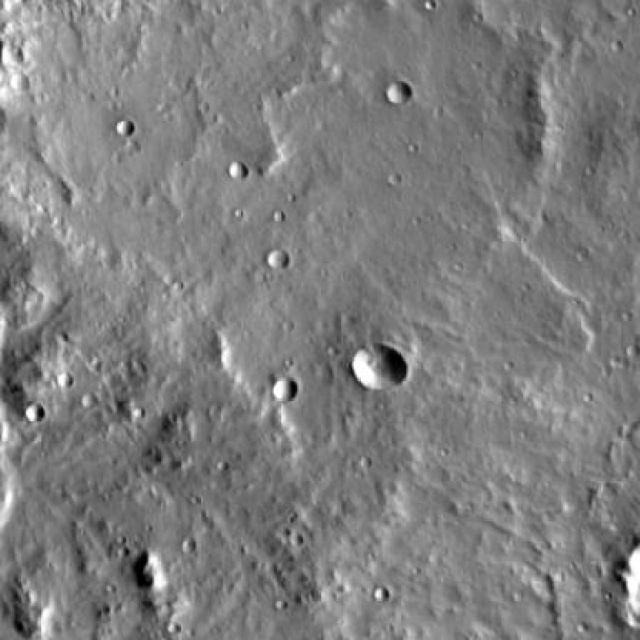crater: (347, 347, 402, 399), (267, 384, 293, 408), (381, 88, 402, 108), (262, 256, 283, 276), (222, 172, 241, 188), (20, 62, 38, 78), (115, 123, 132, 139)
